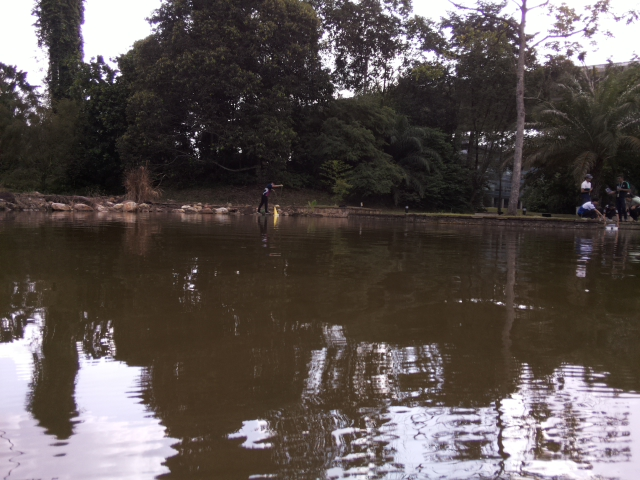checkpoint: (272, 206, 281, 217)
